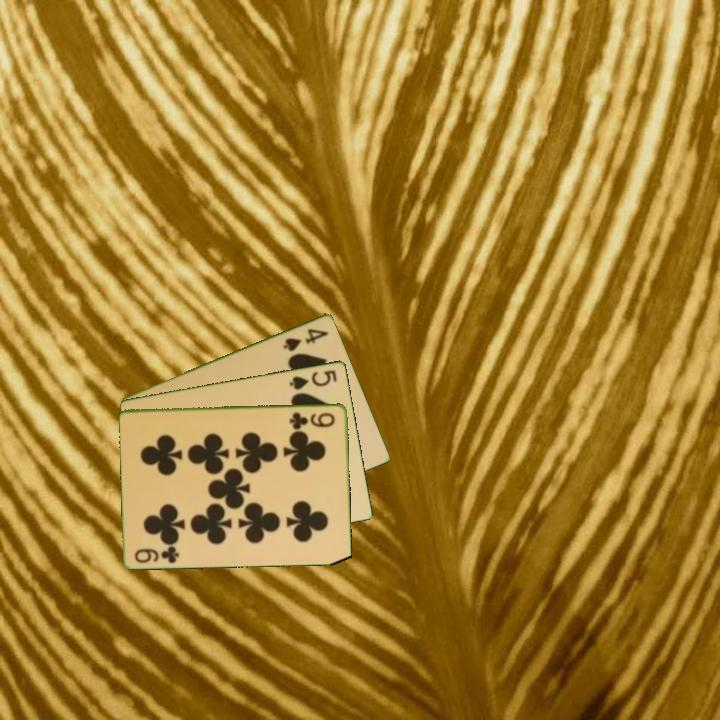4s: (279, 325, 331, 354)
5s: (286, 366, 340, 392)
9c: (131, 542, 182, 566), (286, 409, 338, 430)
